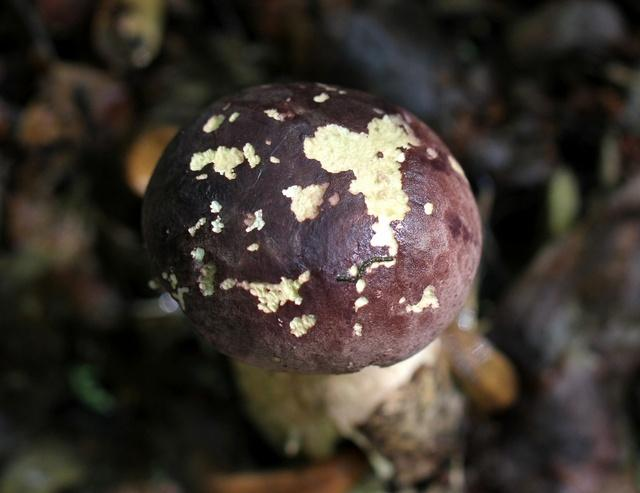Non-edible Mushroom: (139, 78, 484, 376)
